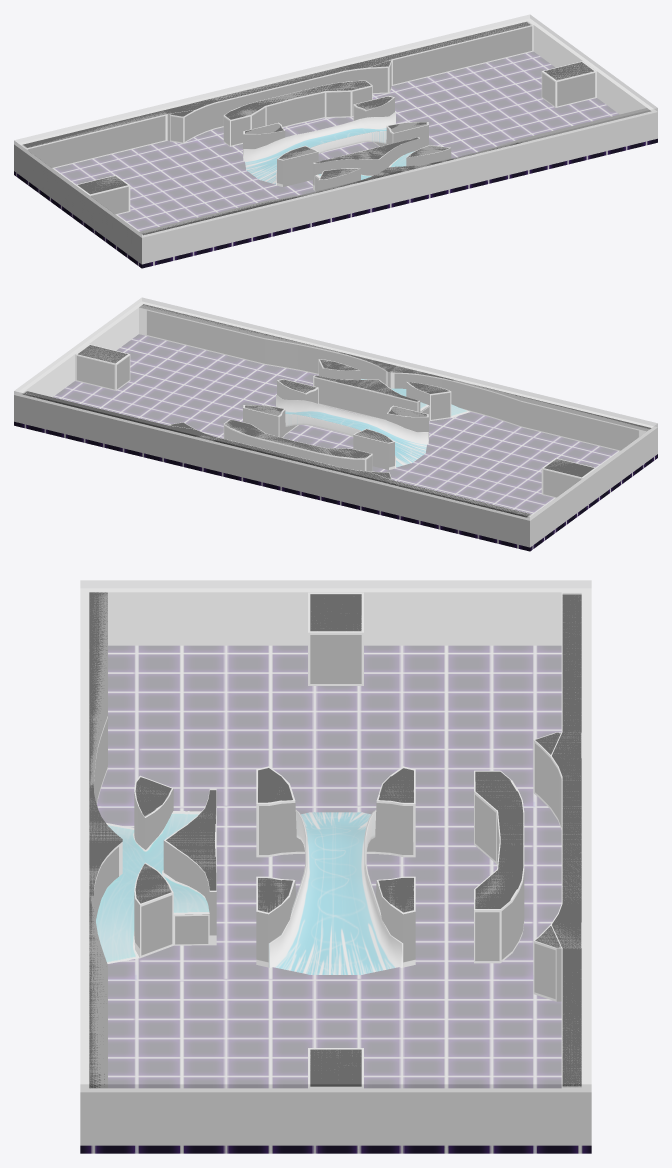
The model's file is playingfield_SpeedsterTestTable01_kgunn 2.fbx.
The picture shows the model from 3 angles, top to bottom: view 1: azimuth 30°, elevation 25°; view 2: azimuth 150°, elevation 25°; view 3: azimuth 270°, elevation 25°; orthographic projection. The views are drawn at different scales.
Visible parts, largest first — view 1: glass_GEO_SpeedsterTestTable01_kgunn, floor_GEO_SpeedsterTestTable01_kgunn, wall02_GEO_SpeedsterTestTable01_kgunn, sideBox01_GEO_SpeedsterTestTable01_kgunn, box01_GEO_SpeedsterTestTable01_kgunn, wall03_GEO_SpeedsterTestTable01_kgunn, bridge_GEO_SpeedsterTestTable01_kgunn, rampBox_GEO_SpeedsterTestTable01_kgunn, wall04_GEO_SpeedsterTestTable01_kgunn, box02_GEO_SpeedsterTestTable01_kgunn, goalDivider02_GEO_SpeedsterTestTable01_kgunn, sideBox02_GEO_SpeedsterTestTable01_kgunn (+3 smaller); view 2: glass_GEO_SpeedsterTestTable01_kgunn, floor_GEO_SpeedsterTestTable01_kgunn, wall01_GEO_SpeedsterTestTable01_kgunn, sideBox02_GEO_SpeedsterTestTable01_kgunn, rampBox_GEO_SpeedsterTestTable01_kgunn, wall03_GEO_SpeedsterTestTable01_kgunn, bridge_GEO_SpeedsterTestTable01_kgunn, sideBox01_GEO_SpeedsterTestTable01_kgunn, box01_GEO_SpeedsterTestTable01_kgunn, wall04_GEO_SpeedsterTestTable01_kgunn, goalDivider02_GEO_SpeedsterTestTable01_kgunn, box02_GEO_SpeedsterTestTable01_kgunn (+3 smaller); view 3: glass_GEO_SpeedsterTestTable01_kgunn, floor_GEO_SpeedsterTestTable01_kgunn, wall04_GEO_SpeedsterTestTable01_kgunn, wall03_GEO_SpeedsterTestTable01_kgunn, sideBox01_GEO_SpeedsterTestTable01_kgunn, bridge_GEO_SpeedsterTestTable01_kgunn, rampBox_GEO_SpeedsterTestTable01_kgunn, sideBox02_GEO_SpeedsterTestTable01_kgunn, box01_GEO_SpeedsterTestTable01_kgunn, box02_GEO_SpeedsterTestTable01_kgunn, crossoverRamp_GEO_SpeedsterTestTable01_kgunn, wall02_GEO_SpeedsterTestTable01_kgunn (+4 smaller).
Part boxes in pixels (<box>): glass_GEO_SpeedsterTestTable01_kgunn: <box>14,14,657,237</box>; floor_GEO_SpeedsterTestTable01_kgunn: <box>14,52,657,268</box>; wall02_GEO_SpeedsterTestTable01_kgunn: <box>139,110,657,264</box>; sideBox01_GEO_SpeedsterTestTable01_kgunn: <box>21,21,533,168</box>; box01_GEO_SpeedsterTestTable01_kgunn: <box>224,80,372,146</box>; wall03_GEO_SpeedsterTestTable01_kgunn: <box>16,145,142,262</box>; bridge_GEO_SpeedsterTestTable01_kgunn: <box>243,112,395,184</box>; rampBox_GEO_SpeedsterTestTable01_kgunn: <box>313,137,450,191</box>; wall04_GEO_SpeedsterTestTable01_kgunn: <box>529,20,654,113</box>; box02_GEO_SpeedsterTestTable01_kgunn: <box>243,123,318,186</box>; goalDivider02_GEO_SpeedsterTestTable01_kgunn: <box>542,61,596,107</box>; sideBox02_GEO_SpeedsterTestTable01_kgunn: <box>140,108,650,234</box>; glass_GEO_SpeedsterTestTable01_kgunn: <box>14,297,657,520</box>; floor_GEO_SpeedsterTestTable01_kgunn: <box>14,334,657,551</box>; wall01_GEO_SpeedsterTestTable01_kgunn: <box>14,393,532,547</box>; sideBox02_GEO_SpeedsterTestTable01_kgunn: <box>139,304,650,450</box>; rampBox_GEO_SpeedsterTestTable01_kgunn: <box>313,359,450,421</box>; wall03_GEO_SpeedsterTestTable01_kgunn: <box>529,428,655,545</box>; bridge_GEO_SpeedsterTestTable01_kgunn: <box>276,395,428,467</box>; sideBox01_GEO_SpeedsterTestTable01_kgunn: <box>21,390,532,517</box>; box01_GEO_SpeedsterTestTable01_kgunn: <box>224,419,372,471</box>; wall04_GEO_SpeedsterTestTable01_kgunn: <box>17,303,142,396</box>; goalDivider02_GEO_SpeedsterTestTable01_kgunn: <box>75,344,129,390</box>; box02_GEO_SpeedsterTestTable01_kgunn: <box>353,406,428,469</box>; glass_GEO_SpeedsterTestTable01_kgunn: <box>80,580,591,1092</box>; floor_GEO_SpeedsterTestTable01_kgunn: <box>80,646,591,1153</box>; wall04_GEO_SpeedsterTestTable01_kgunn: <box>89,1088,582,1145</box>; wall03_GEO_SpeedsterTestTable01_kgunn: <box>89,588,582,645</box>; sideBox01_GEO_SpeedsterTestTable01_kgunn: <box>534,592,582,1088</box>; bridge_GEO_SpeedsterTestTable01_kgunn: <box>269,810,402,974</box>; rampBox_GEO_SpeedsterTestTable01_kgunn: <box>134,776,216,957</box>; sideBox02_GEO_SpeedsterTestTable01_kgunn: <box>89,592,122,1088</box>; box01_GEO_SpeedsterTestTable01_kgunn: <box>474,770,524,962</box>; box02_GEO_SpeedsterTestTable01_kgunn: <box>256,766,415,856</box>; crossoverRamp_GEO_SpeedsterTestTable01_kgunn: <box>96,811,209,963</box>; wall02_GEO_SpeedsterTestTable01_kgunn: <box>80,588,89,1145</box>.
Bounding box in the file's own units: 26.8 × 1.72 × 11.5.
